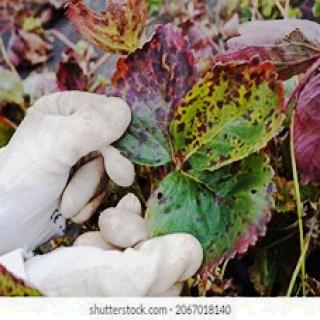wilt: (92, 13, 292, 133), (169, 140, 281, 244)
